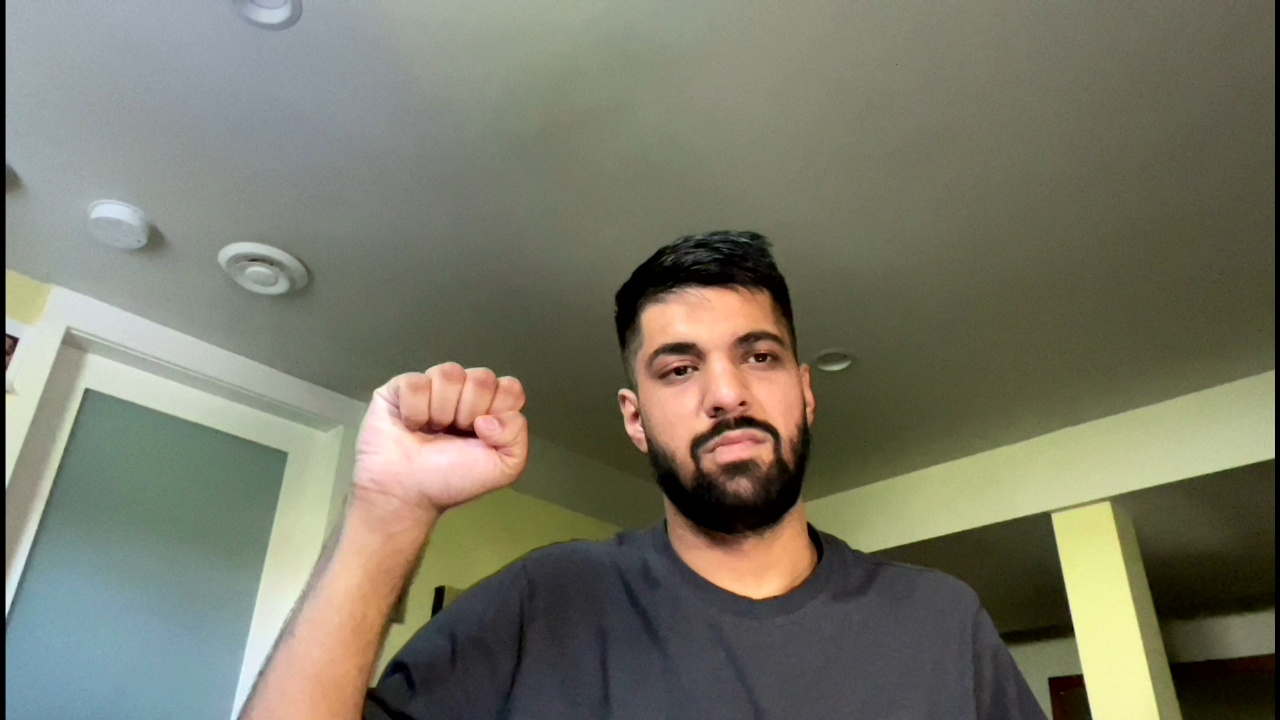No: (349, 354, 550, 507)
